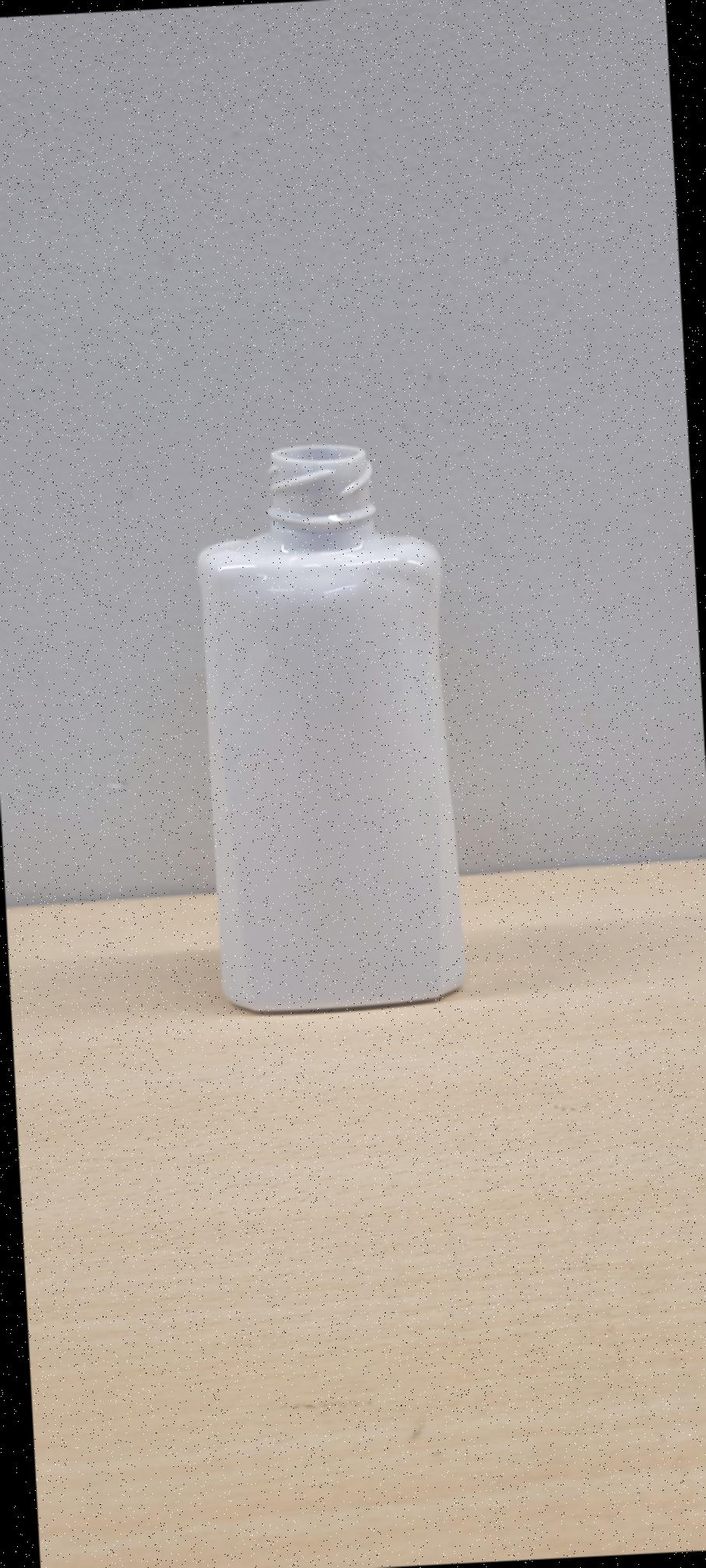bottle: (198, 444, 465, 1012)
